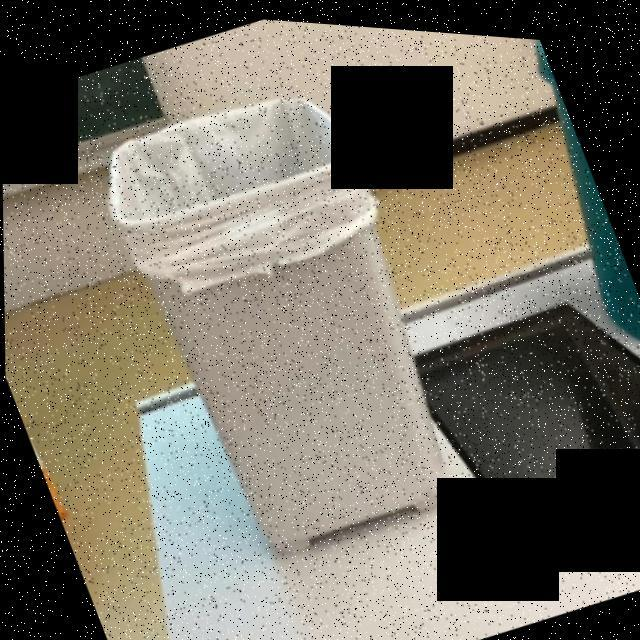bin: (65, 30, 496, 603), (491, 29, 640, 359)
